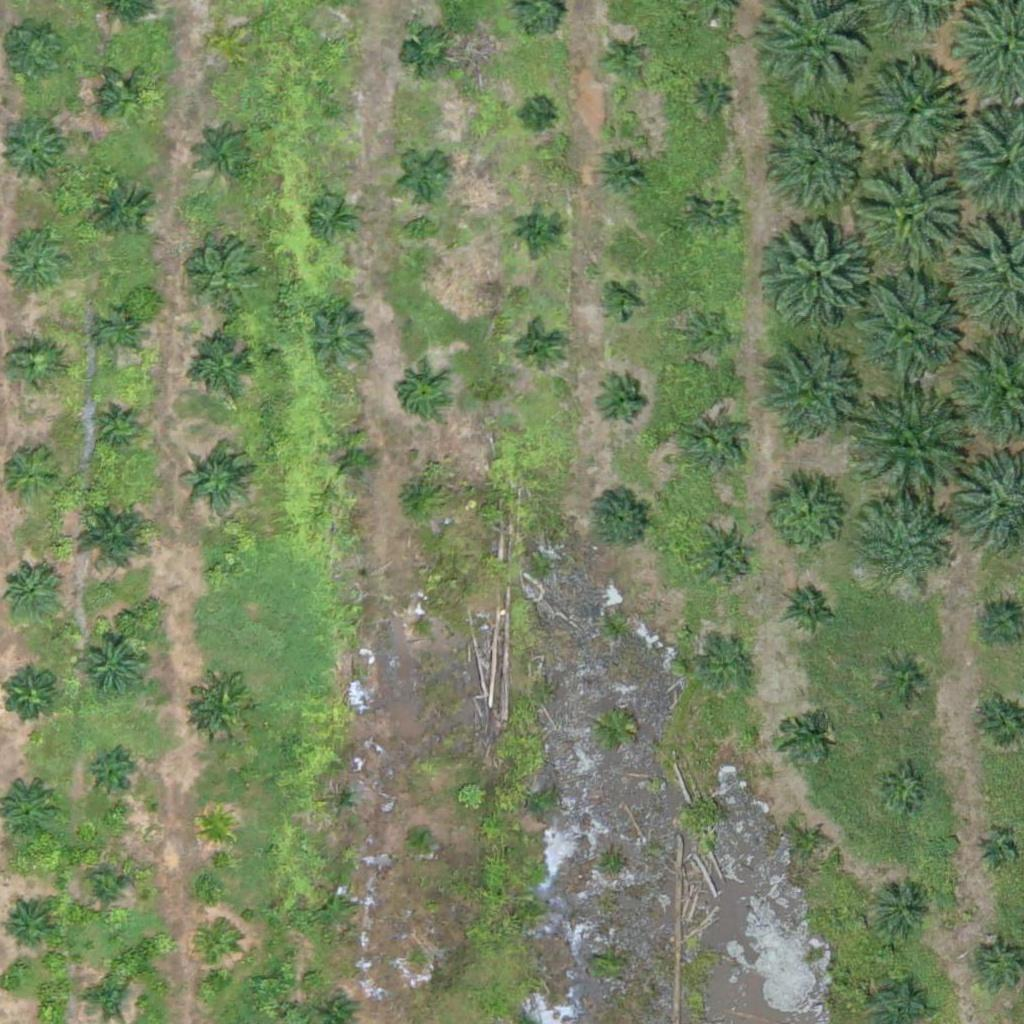Kelapa_Sawit: (857, 394, 969, 508), (853, 278, 965, 392), (856, 161, 968, 275), (864, 59, 964, 160), (769, 225, 869, 325), (757, 351, 857, 451), (759, 474, 846, 562), (774, 121, 861, 209), (859, 501, 946, 589), (71, 494, 158, 582), (179, 445, 254, 521), (74, 625, 149, 700), (2, 236, 65, 299), (694, 526, 757, 589), (308, 309, 371, 372), (589, 485, 652, 548), (191, 677, 254, 740), (1, 120, 63, 183), (688, 416, 750, 479), (91, 180, 153, 243), (191, 337, 253, 400), (193, 247, 256, 309), (199, 125, 261, 188), (873, 880, 935, 943), (782, 578, 844, 641), (511, 322, 561, 373), (595, 376, 645, 427), (77, 971, 127, 1022), (329, 435, 379, 486), (391, 470, 441, 521), (9, 342, 59, 392), (81, 751, 131, 801), (701, 645, 751, 695), (777, 709, 827, 759), (693, 188, 743, 238), (513, 205, 563, 255), (401, 150, 451, 200), (101, 72, 151, 122), (308, 193, 358, 243), (396, 368, 446, 418), (403, 30, 453, 80), (879, 765, 929, 815), (880, 656, 930, 706), (599, 33, 649, 83), (682, 307, 732, 357), (598, 147, 648, 197), (82, 865, 132, 915), (90, 403, 139, 454), (602, 282, 640, 320), (794, 823, 832, 861), (197, 808, 235, 846), (977, 832, 1015, 870), (199, 930, 237, 968), (315, 888, 353, 926), (100, 312, 137, 350), (324, 782, 361, 820), (700, 88, 725, 113), (523, 102, 548, 127), (322, 95, 347, 120), (217, 33, 242, 58), (409, 822, 434, 847), (406, 613, 431, 638), (207, 560, 232, 585)
